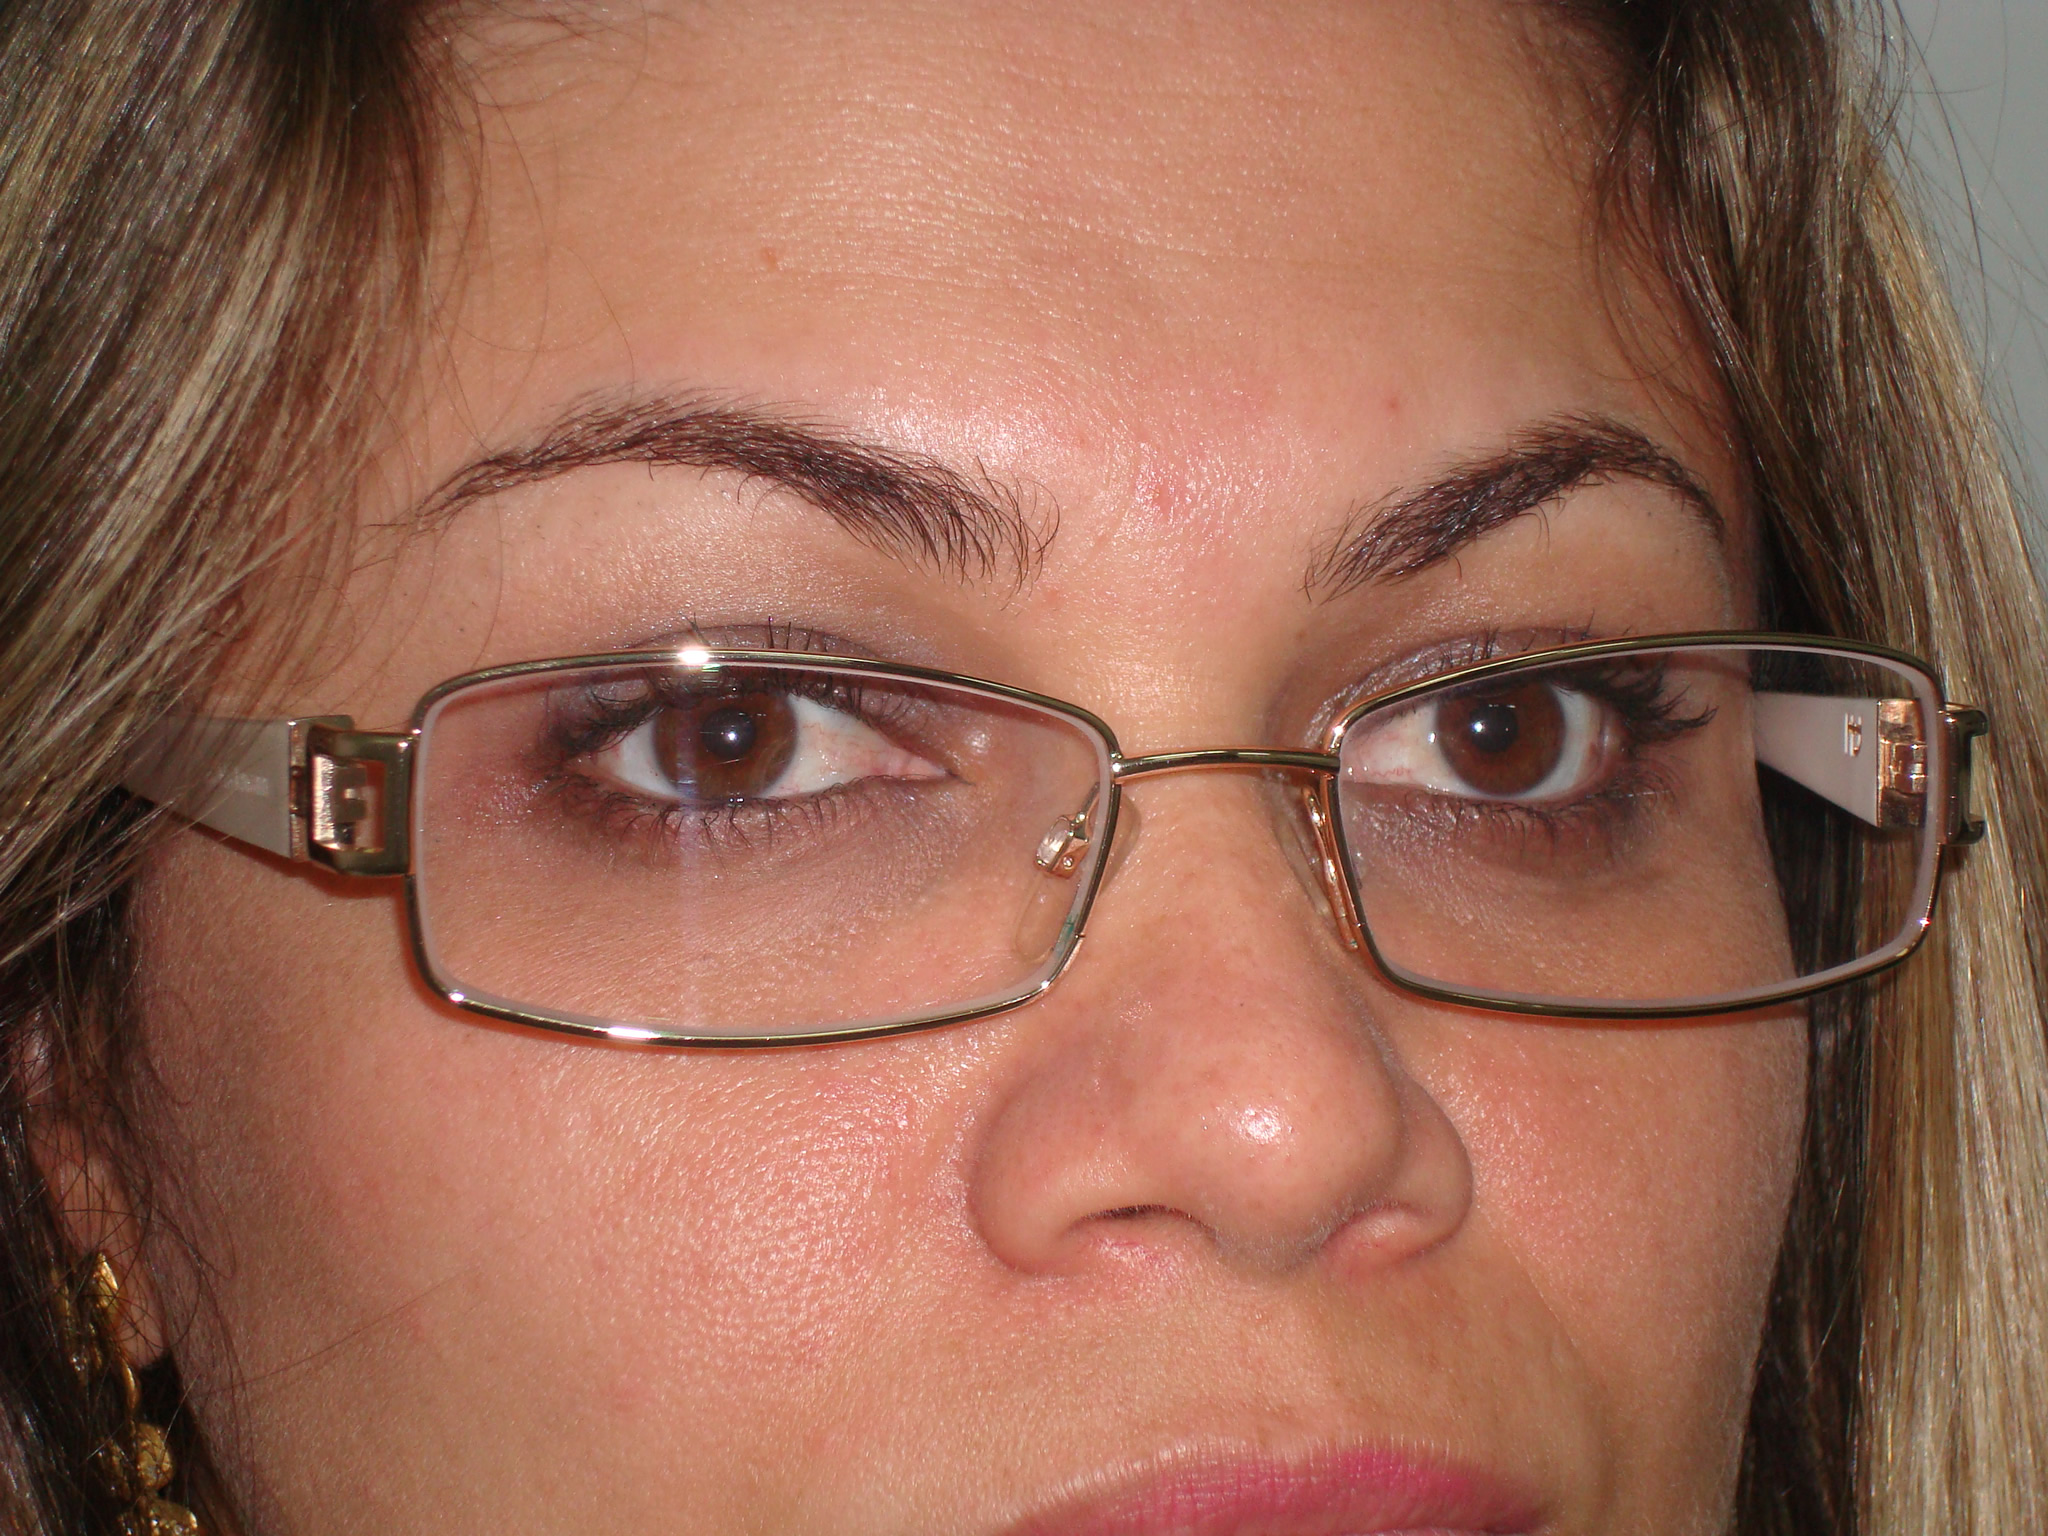flash: (722, 726, 742, 745), (1469, 718, 1487, 736)
limbo: (1426, 665, 1559, 789), (663, 671, 793, 797)
